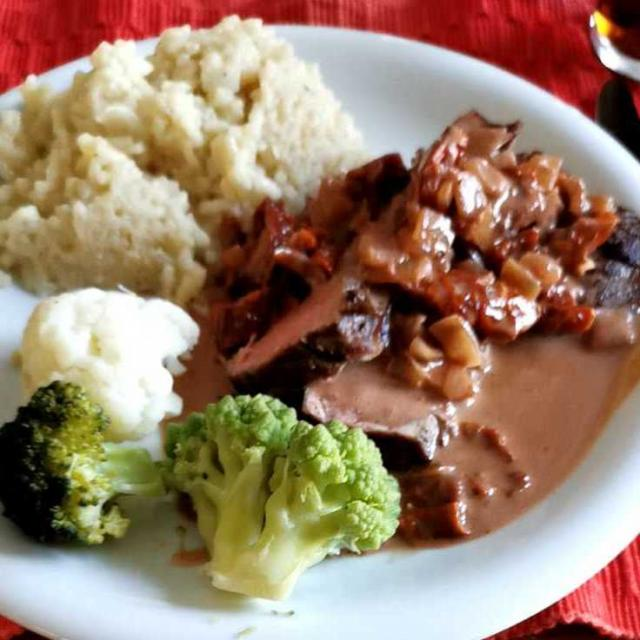beef-sirloin-steak: (237, 246, 460, 475)
broccoli: (2, 389, 169, 534)
cauliflower: (24, 288, 194, 422)
risotto-without-cheese-cooked: (18, 11, 378, 307)
romanesco: (173, 386, 419, 610)
sauce-mushroom: (193, 133, 611, 555)
